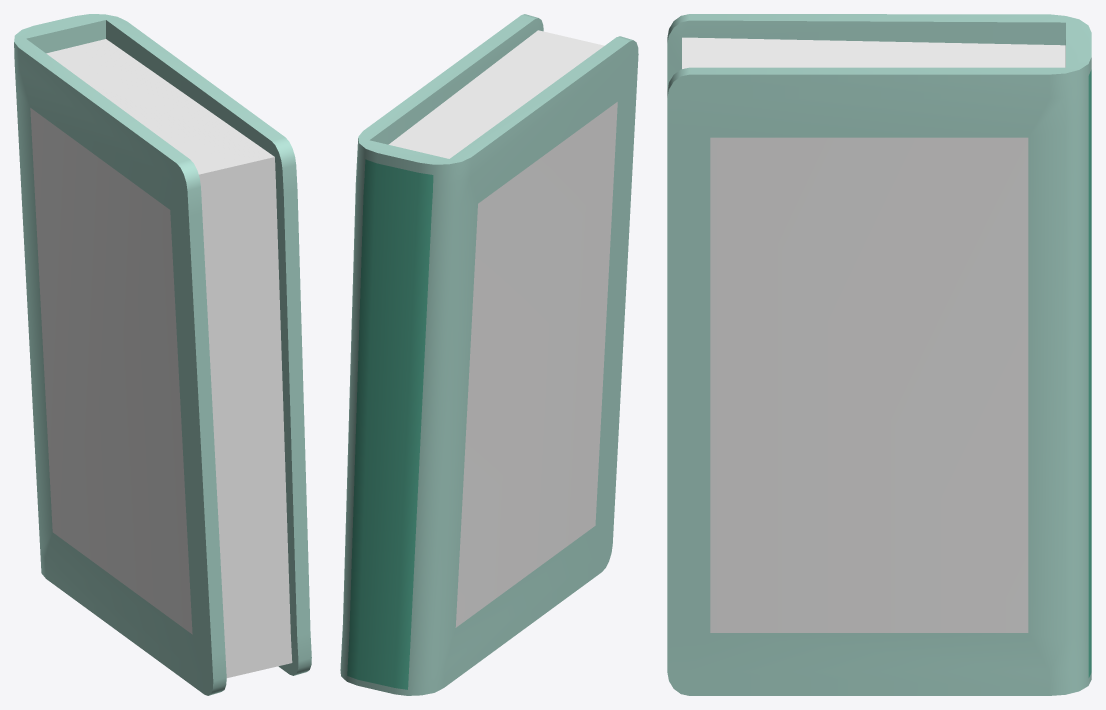
The model's file is book_27.fbx.
3 renders of one model, left to right at view 1: azimuth 30°, elevation 25°; view 2: azimuth 150°, elevation 25°; view 3: azimuth 270°, elevation 25°, orthographic. The views are drawn at different scales.
Visible parts, largest first — view 1: book_27; view 2: book_27; view 3: book_27.
Boxes of the visible parts, box(x1,y1,x2,y2) form: book_27: box(14, 14, 311, 695); book_27: box(340, 14, 638, 695); book_27: box(667, 14, 1091, 695).
Size of the model in its own units: 0.0903 by 0.3684 by 0.231.
